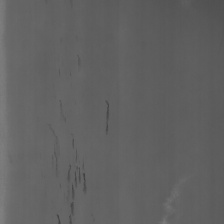water_spot: (66, 144, 87, 204), (48, 117, 62, 169), (102, 92, 114, 139), (64, 199, 75, 223)
